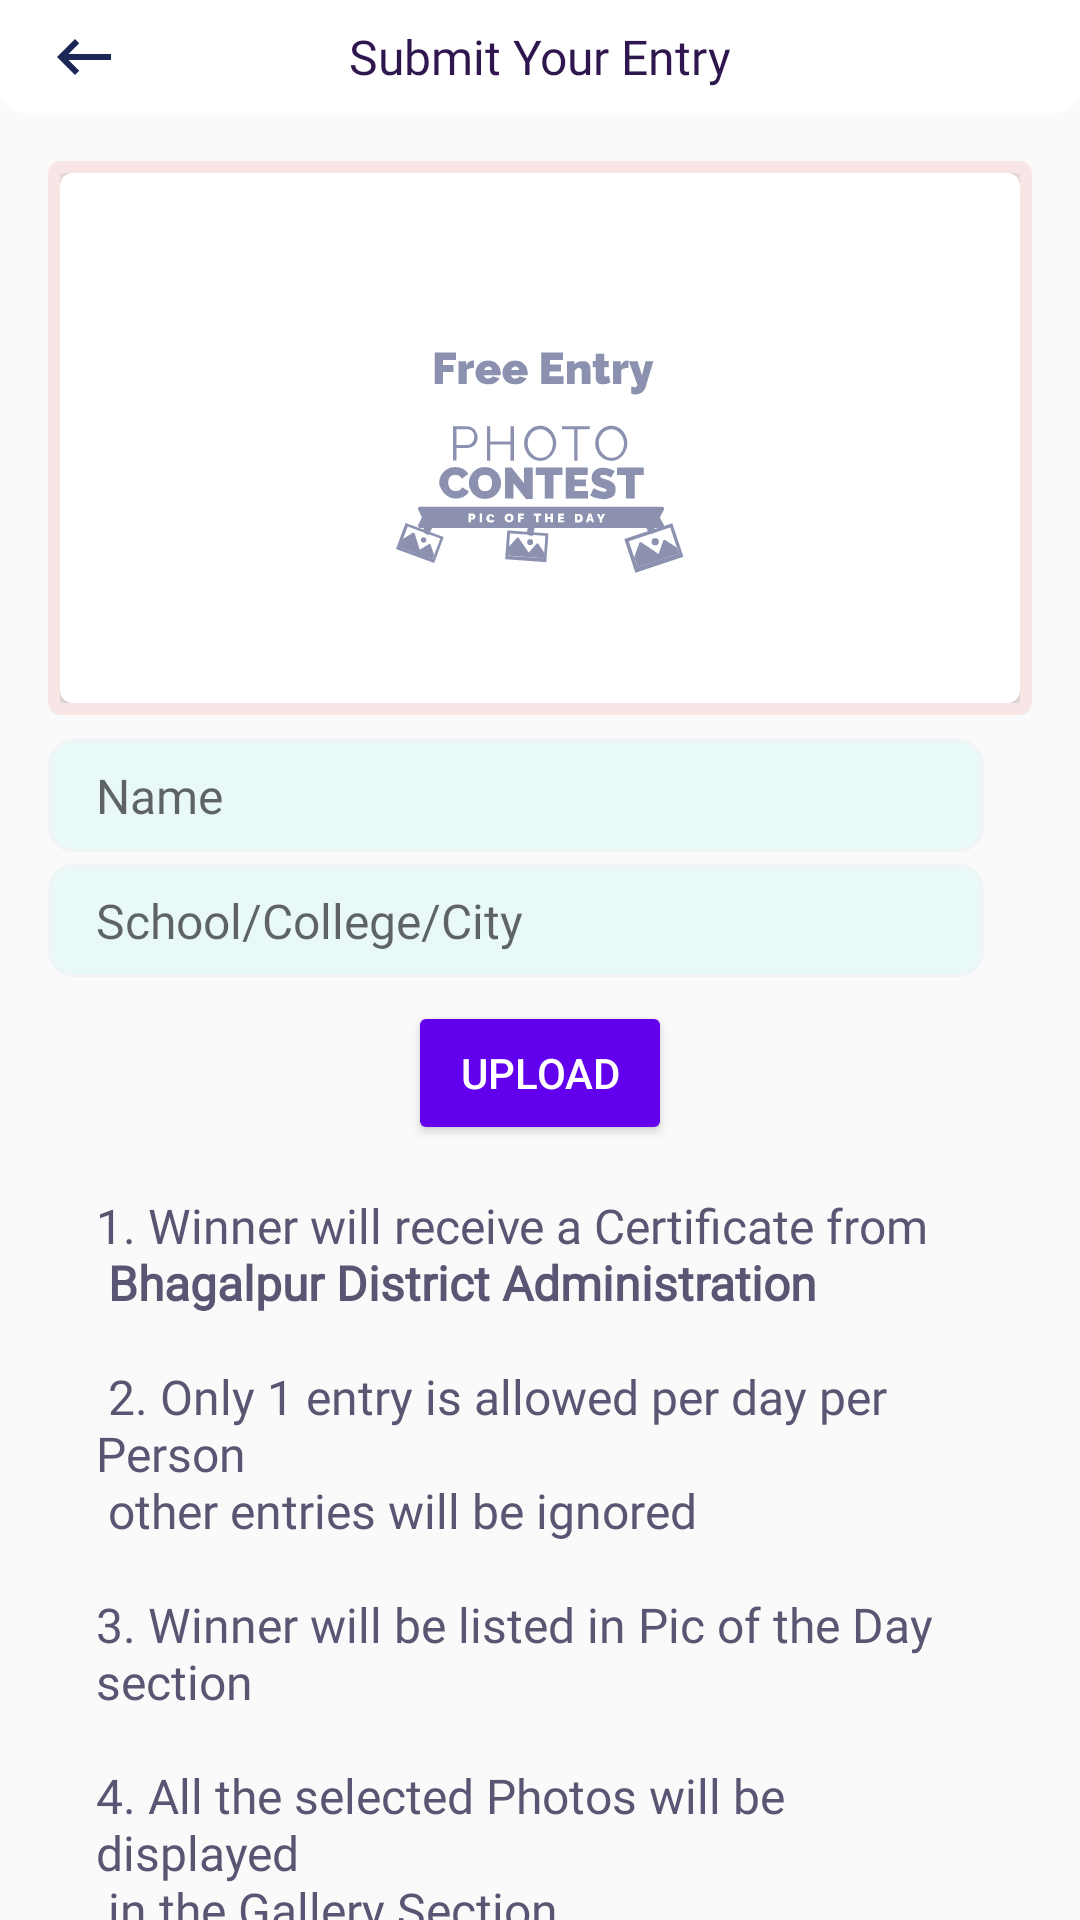

Named icons in this screenshot (1080px x 1920px) and their bounding boxes, (x1, y1, x2, y2):
keyboard backspace: (57, 39, 111, 75)
